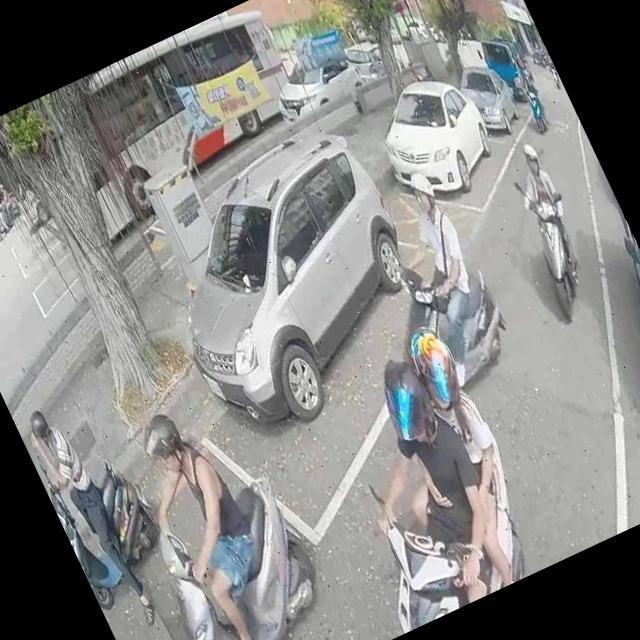person: (340, 313, 558, 610), (311, 351, 525, 628), (108, 390, 305, 640), (361, 158, 525, 399), (18, 402, 158, 634), (498, 142, 596, 290), (517, 68, 552, 124), (0, 195, 10, 234)
